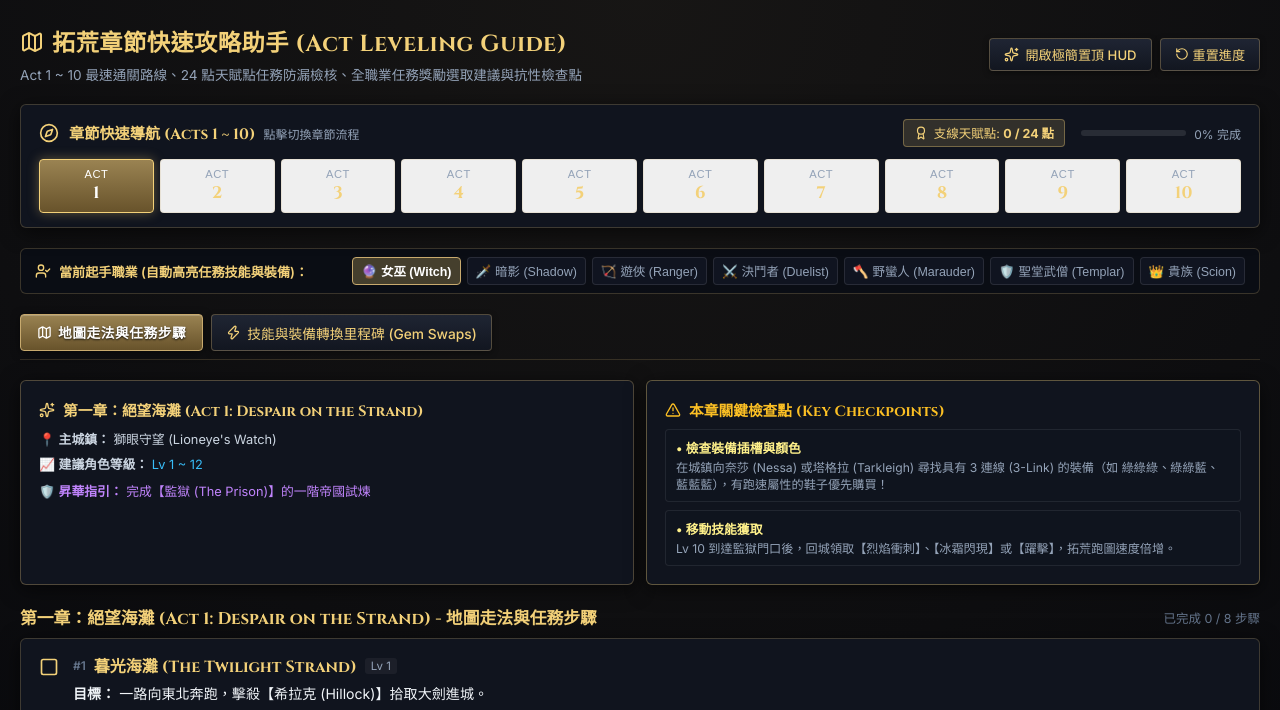
Scenario: ActLevelingGuide Component › switches between map steps and gem swap checkpoints tab
The image size is (1280, 710).
Click the button "技能與裝備轉換里程碑 (Gem Swaps)" at (352, 332), box [211, 314, 492, 351]
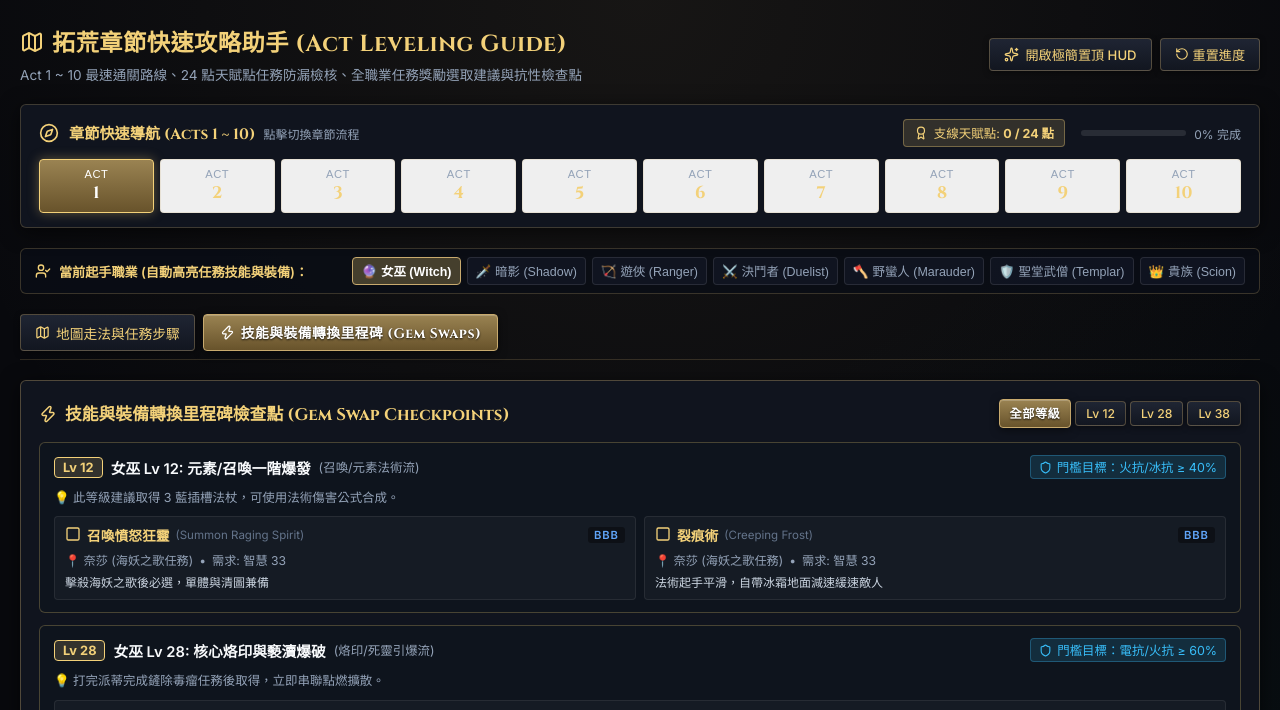
Now the heading "技能與裝備轉換里程碑檢查點 (Gem Swap Checkpoints)" is shown, box [65, 401, 510, 426]
Now the text "女巫 Lv 12: 元素/召喚一階爆發" is shown, box [111, 456, 311, 478]
Click the button "地圖走法與任務步驟" at (107, 332), box [20, 314, 195, 351]
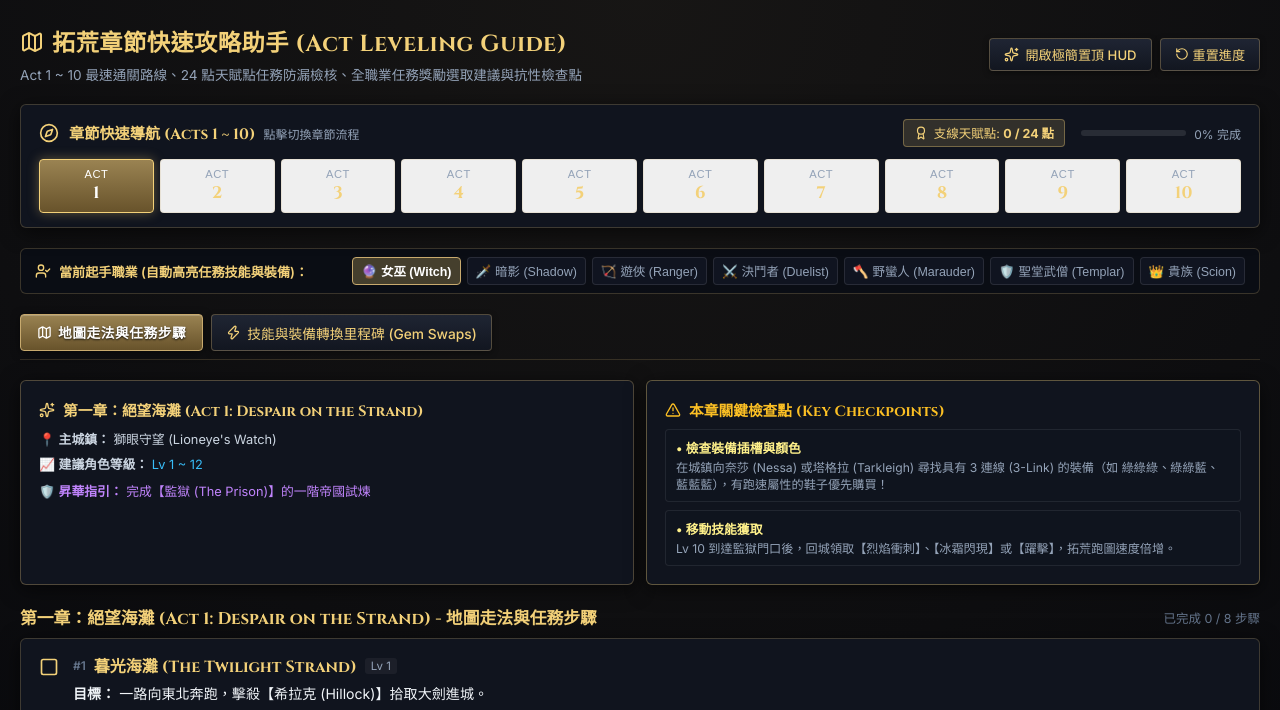
Now the heading "暮光海灘 (The Twilight Strand)" is shown, box [94, 653, 357, 678]
